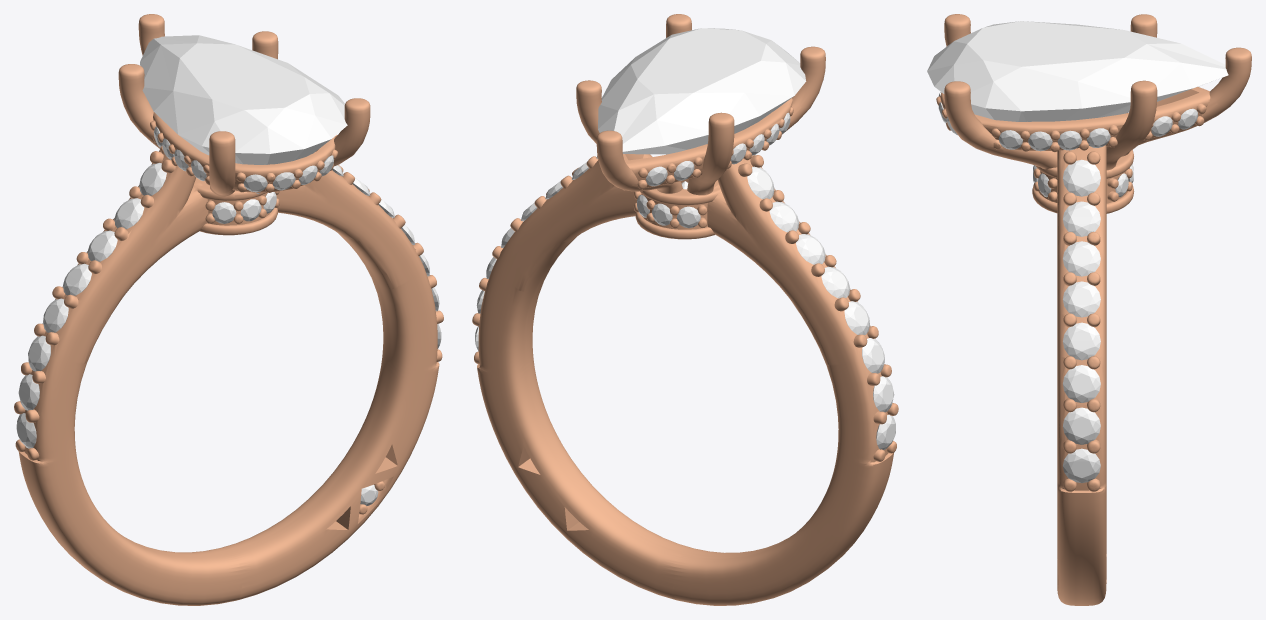
3 views of the same model, side by side, from view 1: azimuth 30°, elevation 25°; view 2: azimuth 150°, elevation 25°; view 3: azimuth 270°, elevation 25° (orthographic). The views are drawn at different scales.
Parts seen in each view (by area): view 1: object 42, PART0001 (×8); view 2: object 42, PART0001 (×8); view 3: PART0001 (×9), object 42.
Part boxes in pixels (x1,y1,x2,y2): object 42: [14, 14, 443, 605]; PART0001 (×8): [18, 35, 347, 410]; object 42: [472, 14, 898, 605]; PART0001 (×8): [598, 28, 894, 412]; PART0001 (×9): [927, 21, 1228, 483]; object 42: [936, 14, 1251, 605].
Bounding box in the file's own units: 2.34 × 2.85 × 1.55.
